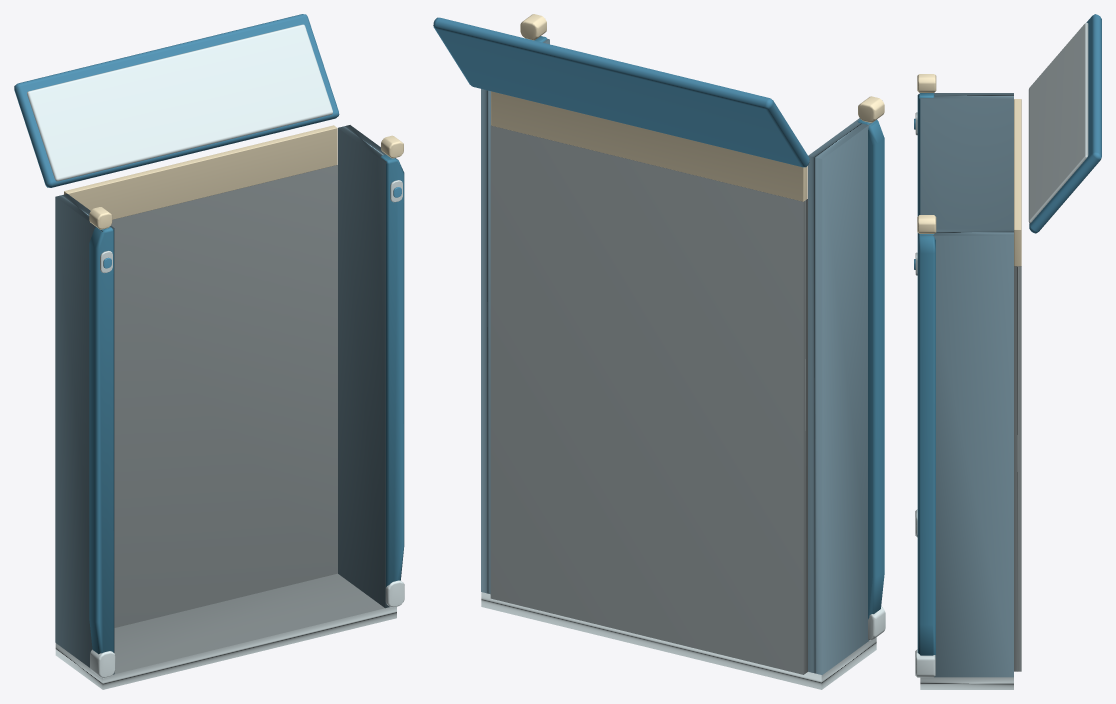
The model's file is container_icecooler.glb.
The picture shows the model from 3 angles, left to right: view 1: azimuth 30°, elevation 25°; view 2: azimuth 150°, elevation 25°; view 3: azimuth 270°, elevation 25°; orthographic projection. The views are drawn at different scales.
Visible parts, largest first — view 1: Back liner, Hinged cooler lid, Flat inner wall.001, Flat inner wall, Continuous floor, Outer corner moulding, Outer corner moulding.001; view 2: Back liner, Flat inner wall, Hinged cooler lid, Outer corner moulding, Flat inner wall.001, Continuous floor; view 3: Flat inner wall.001, Flat inner wall, Hinged cooler lid, Outer corner moulding.001, Back liner, Continuous floor, Outer corner moulding.
Boxes of the visible parts, x1,y1,x2,y2 form: Back liner: (64,125,337,627); Hinged cooler lid: (14,14,339,187); Flat inner wall.001: (338,125,397,608); Flat inner wall: (55,194,114,674); Continuous floor: (55,573,396,689); Outer corner moulding: (89,207,115,678); Outer corner moulding.001: (381,135,404,607); Back liner: (490,91,807,674); Flat inner wall: (808,118,876,674); Hinged cooler lid: (433,17,809,167); Outer corner moulding: (857,96,885,640); Flat inner wall.001: (481,39,549,594); Continuous floor: (481,592,876,689); Flat inner wall.001: (920,229,1013,677); Flat inner wall: (920,93,1013,229); Hinged cooler lid: (1028,14,1101,233); Outer corner moulding.001: (914,215,936,677); Back liner: (1014,99,1021,671); Continuous floor: (920,677,1013,689); Outer corner moulding: (914,74,936,537).
Bounding box in the file's own units: 7.54 × 12.61 × 4.01.
